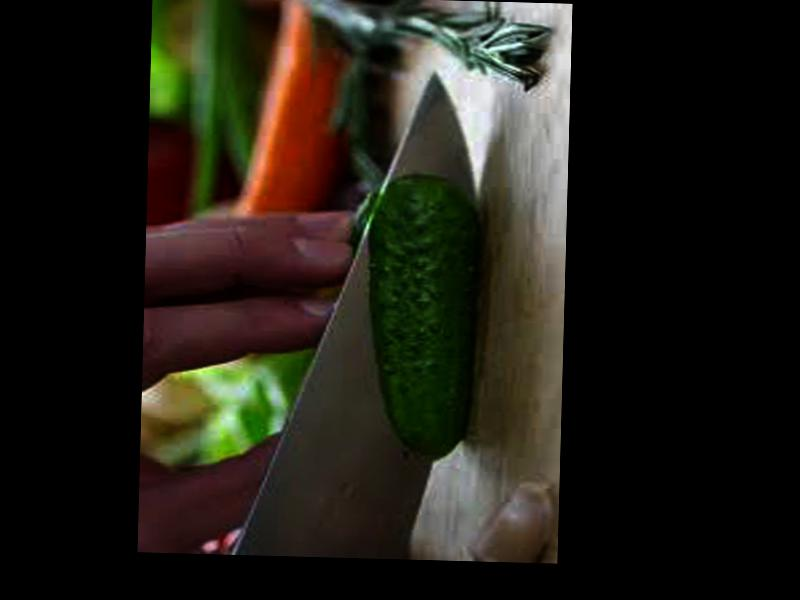Cucumber: (363, 172, 485, 458)
